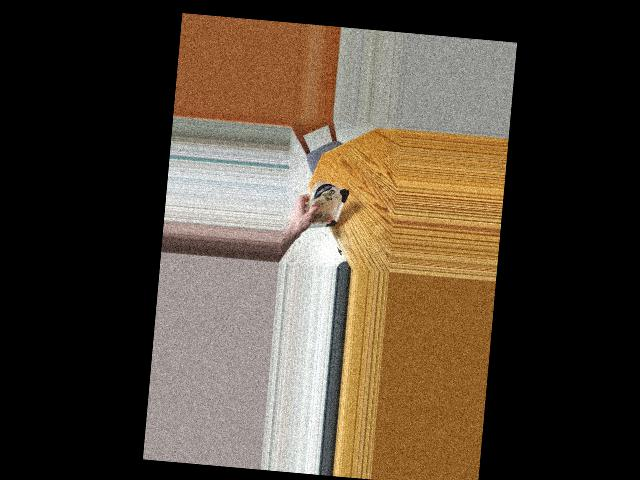cheese: (306, 178, 345, 233)
